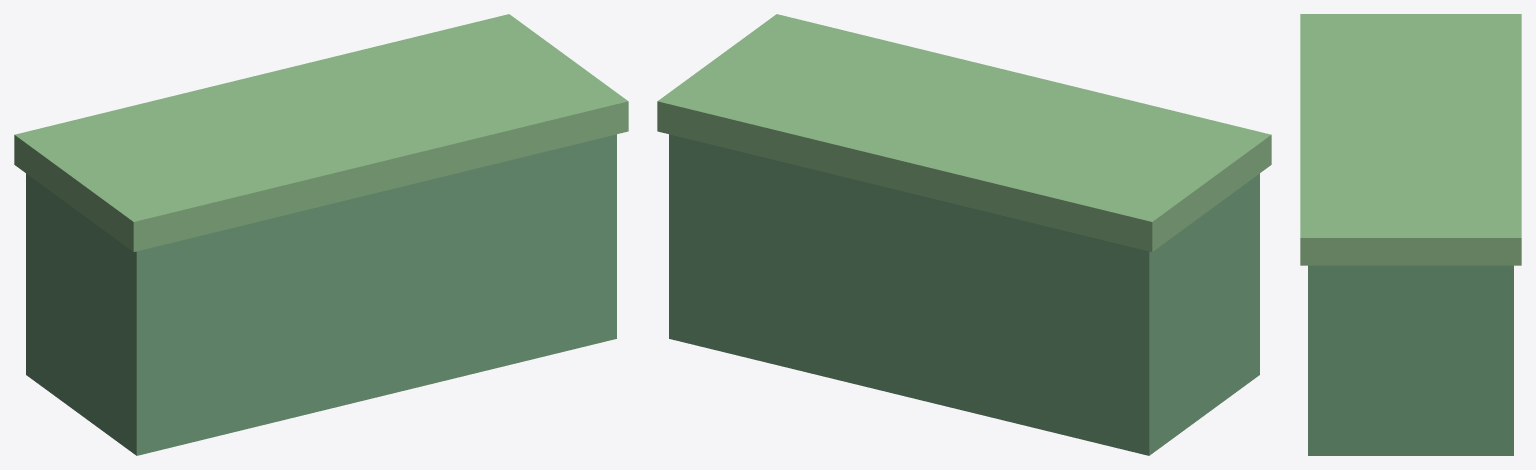
Rendered from hedge_block.glb.
3 views of the same model, side by side, from view 1: azimuth 30°, elevation 25°; view 2: azimuth 150°, elevation 25°; view 3: azimuth 270°, elevation 25° (orthographic). The views are drawn at different scales.
Parts seen in each view (by area): view 1: hedge-block; view 2: hedge-block; view 3: hedge-block.
Boxes of the visible parts, x1,y1,x2,y2 form: hedge-block: (14, 14, 628, 455); hedge-block: (657, 14, 1271, 455); hedge-block: (1300, 14, 1521, 455).
Size of the model in its own units: 2.06 by 0.9499 by 0.8601.
